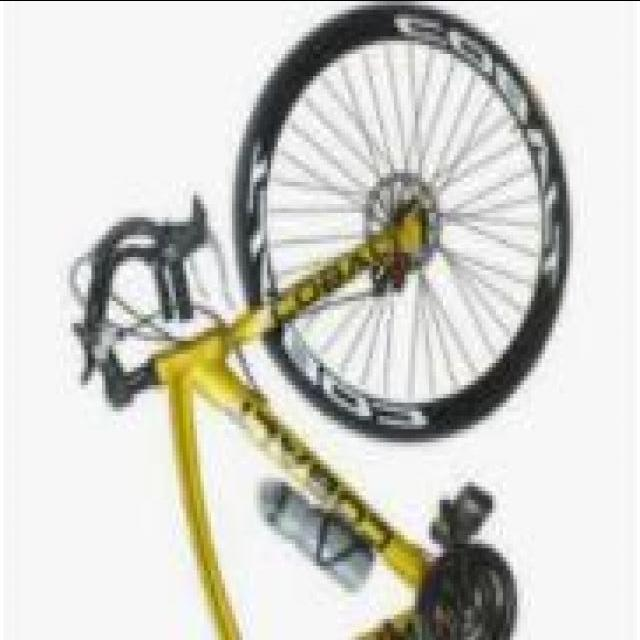bicycle: (75, 27, 581, 640)
